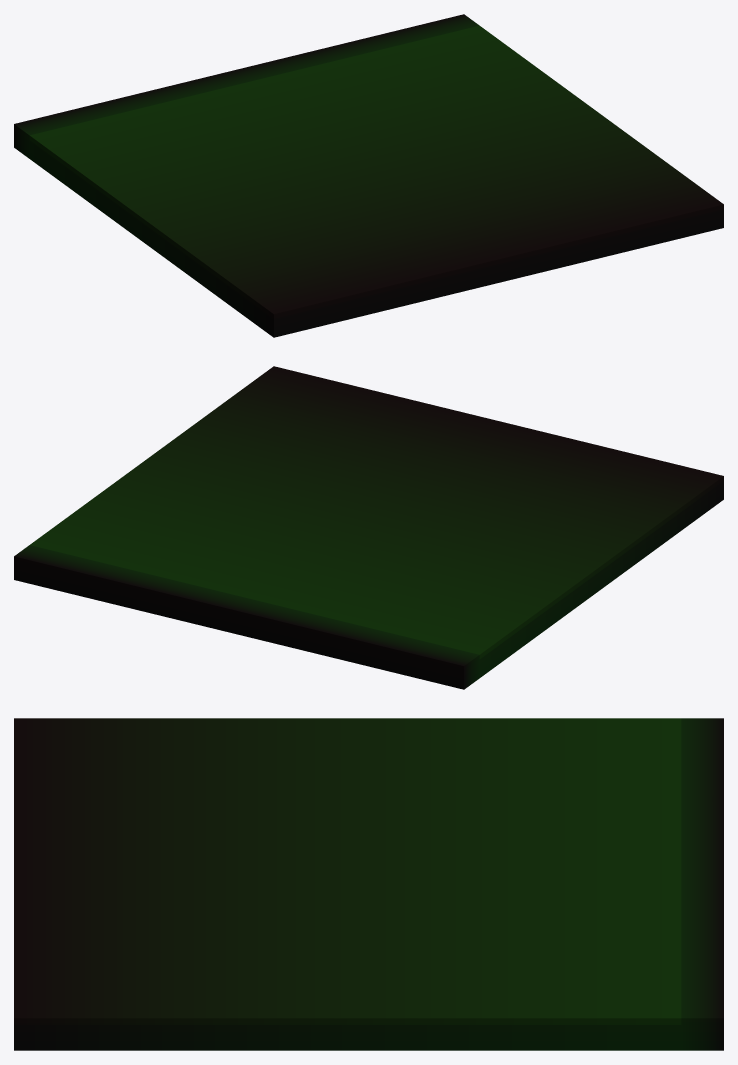
File: via_he_junction.mid.glb
The picture shows the model from 3 angles, top to bottom: view 1: azimuth 30°, elevation 25°; view 2: azimuth 150°, elevation 25°; view 3: azimuth 270°, elevation 25°; orthographic projection. The views are drawn at different scales.
Visible parts, largest first — view 1: via_he_junction; view 2: via_he_junction; view 3: via_he_junction.
Boxes of the visible parts, x1=… form: via_he_junction: x1=14, y1=14, x2=723, y2=337; via_he_junction: x1=14, y1=366, x2=723, y2=689; via_he_junction: x1=14, y1=718, x2=723, y2=1050.
Size of the model in its own units: 3 by 0.15 by 3.
